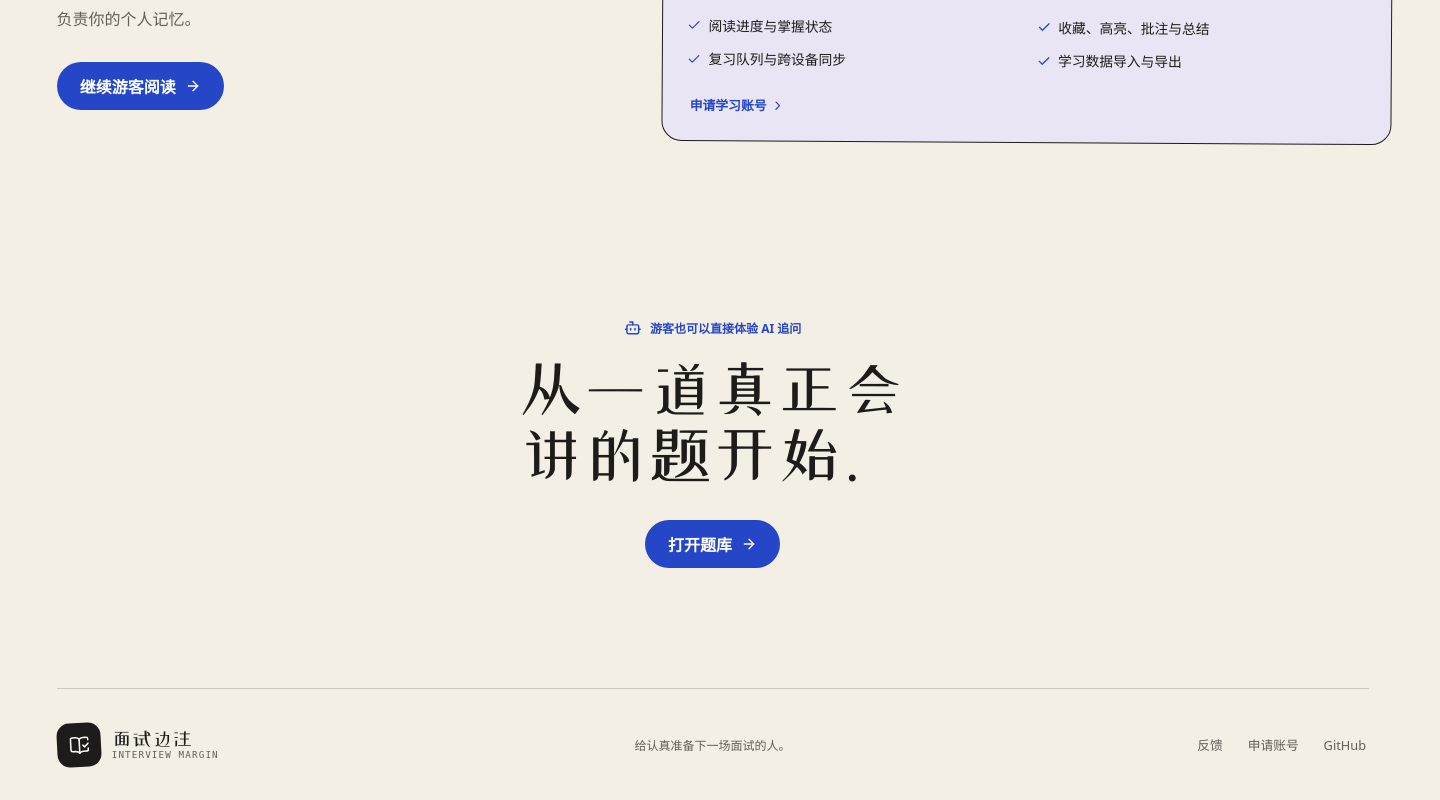
Test case: MarketingLanding › submits feedback to the private admin inbox
(page scrolled)
Click the button "反馈".
click(1210, 745)  # box [1195,723,1225,767]
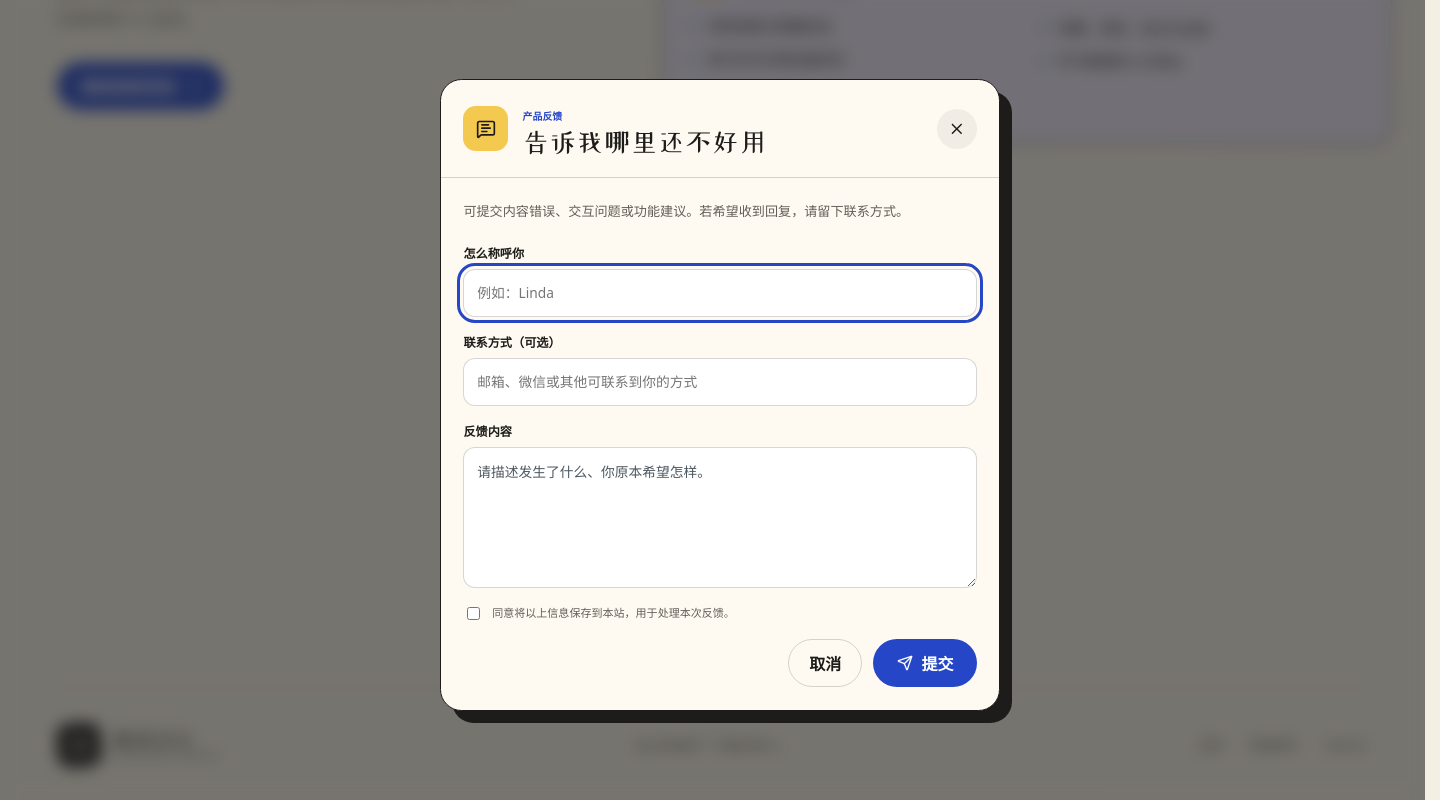
Type "测试访客" into the field labelled "怎么称呼你".
click(720, 293); type("测试访客")  # box [463,269,977,317]
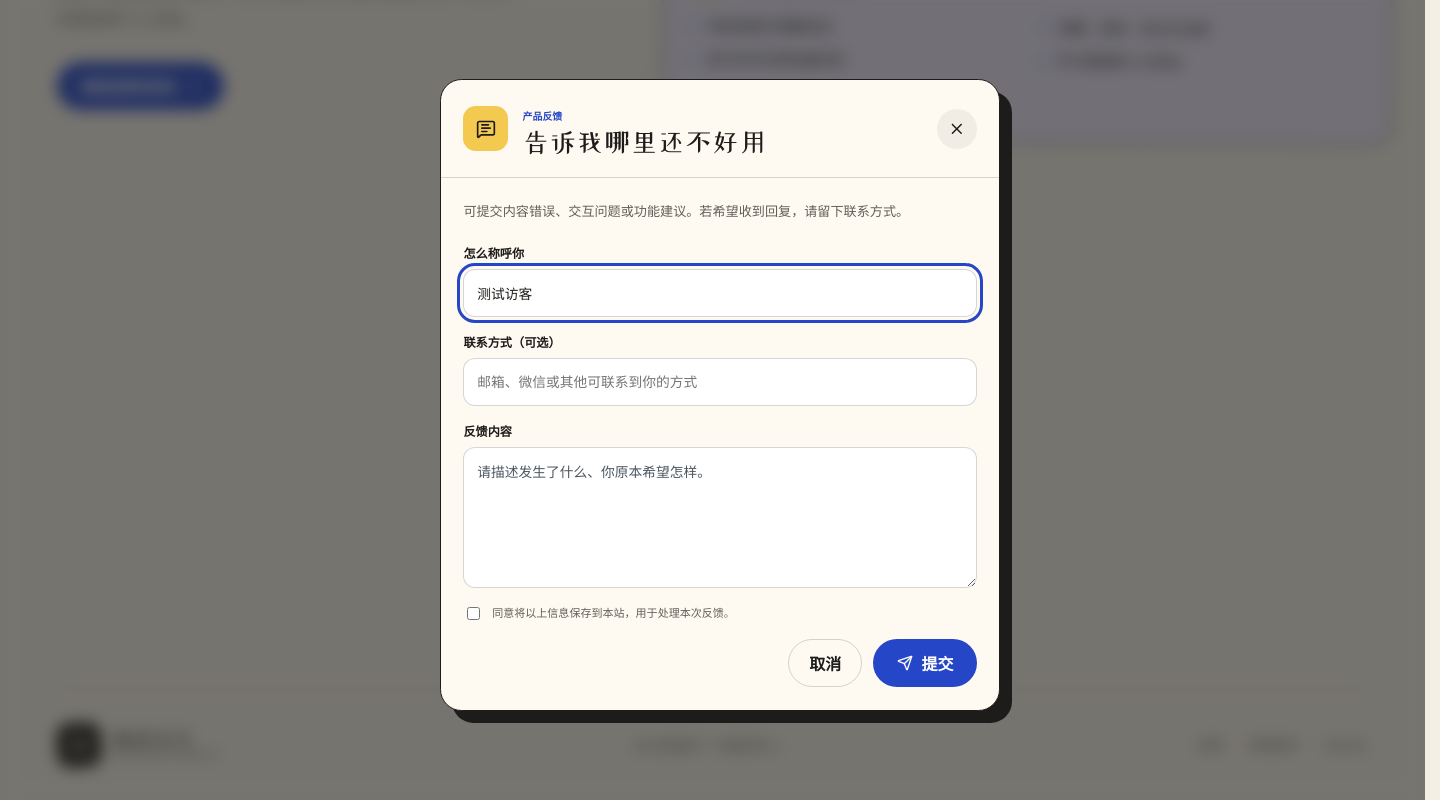
Type "希望移动端的题库入口更容易找到。" into the text box labelled "反馈内容".
click(720, 518); type("希望移动端的题库入口更容易找到。")  # box [463,447,977,588]
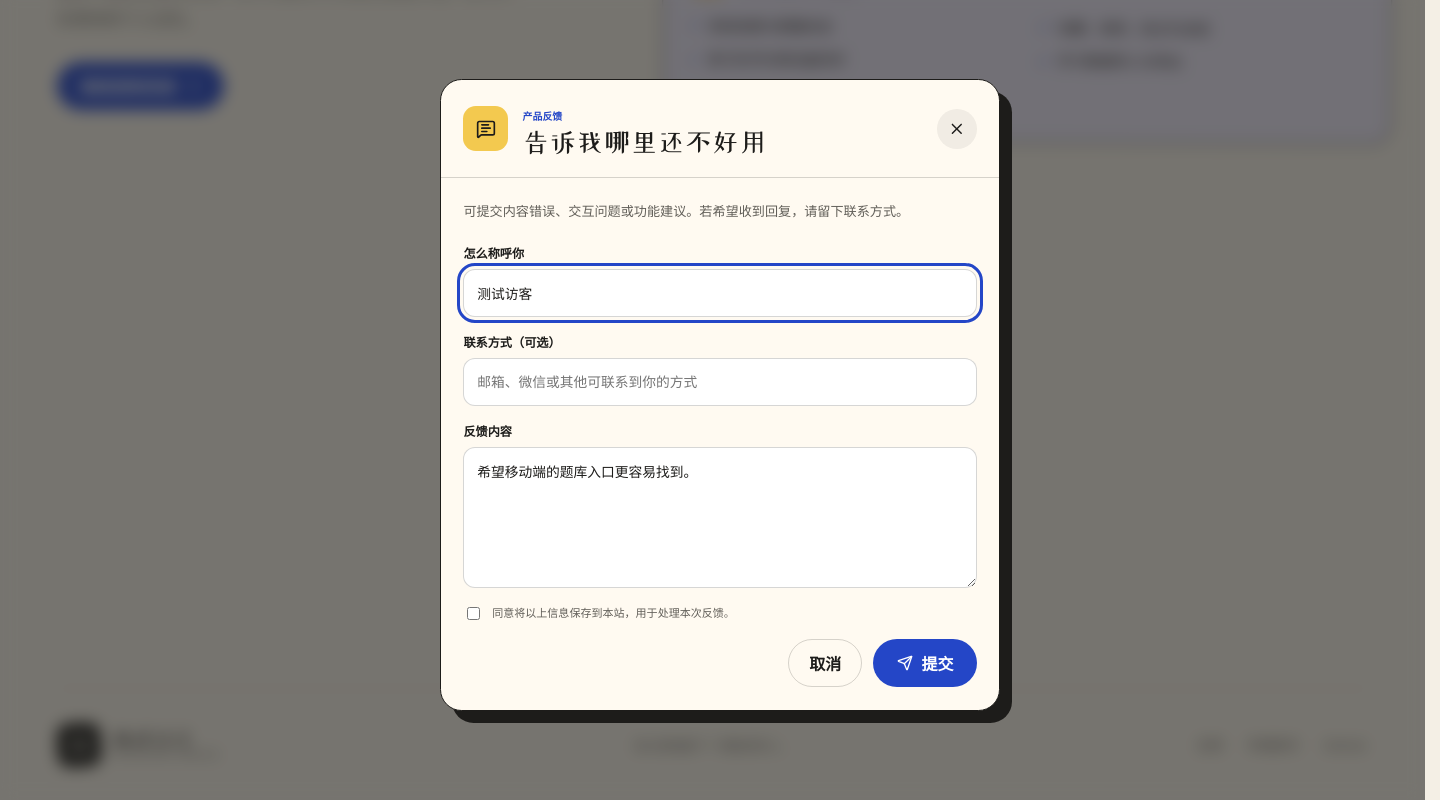
Click the checkbox.
click(474, 614)  # box [467,607,480,620]
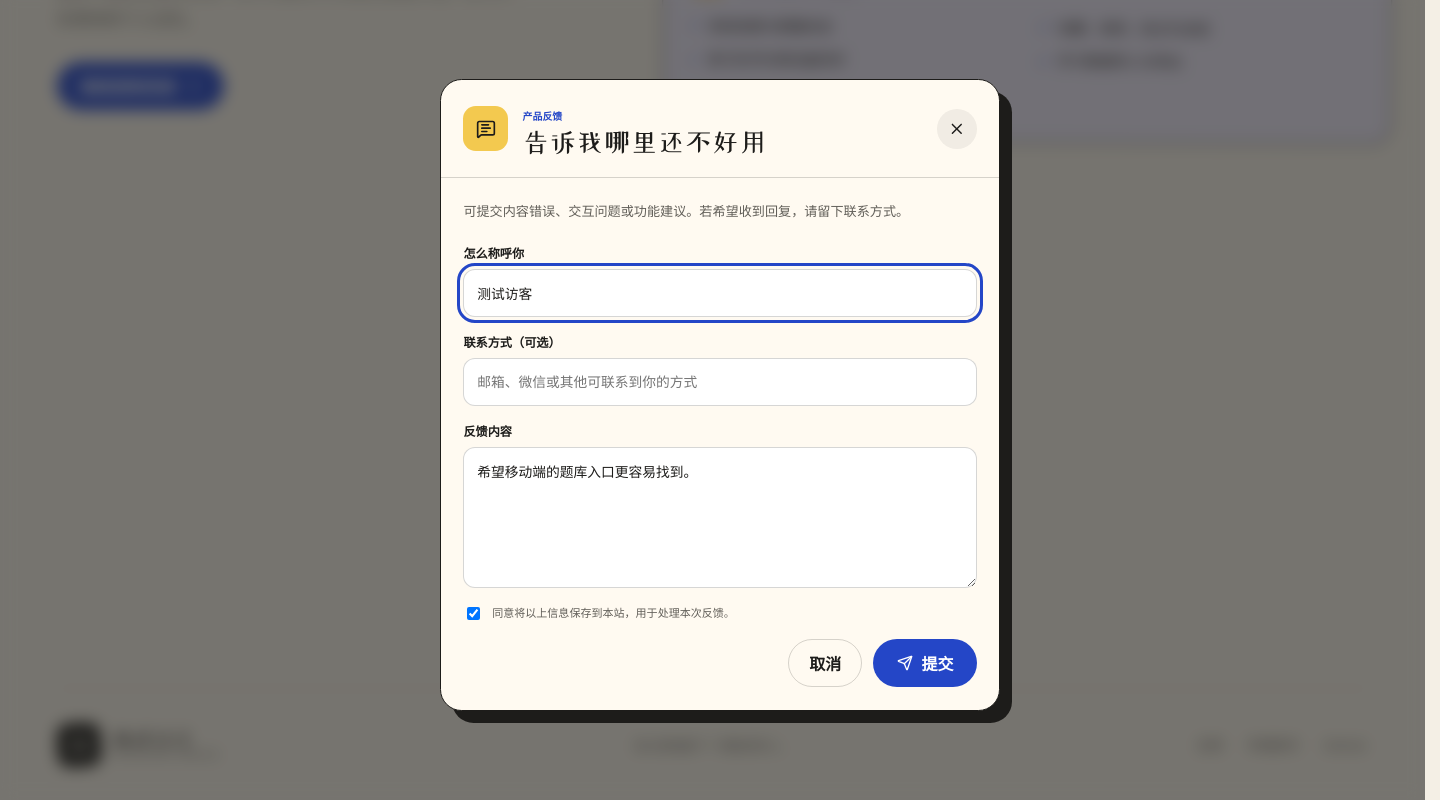
Click the button "提交".
click(925, 663)  # box [873,639,977,687]
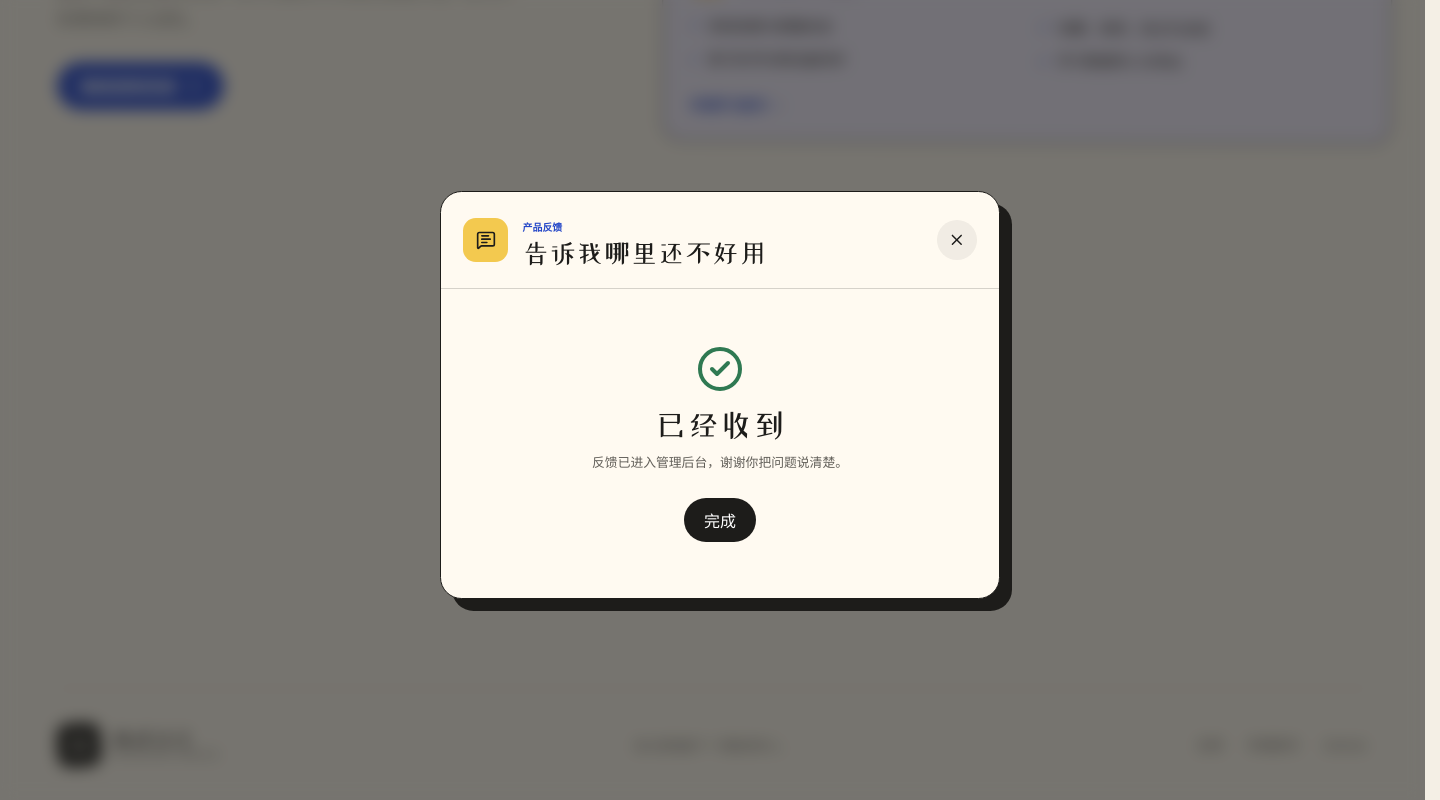
Result: the heading "已经收到" is shown at [654,409,786,441]
